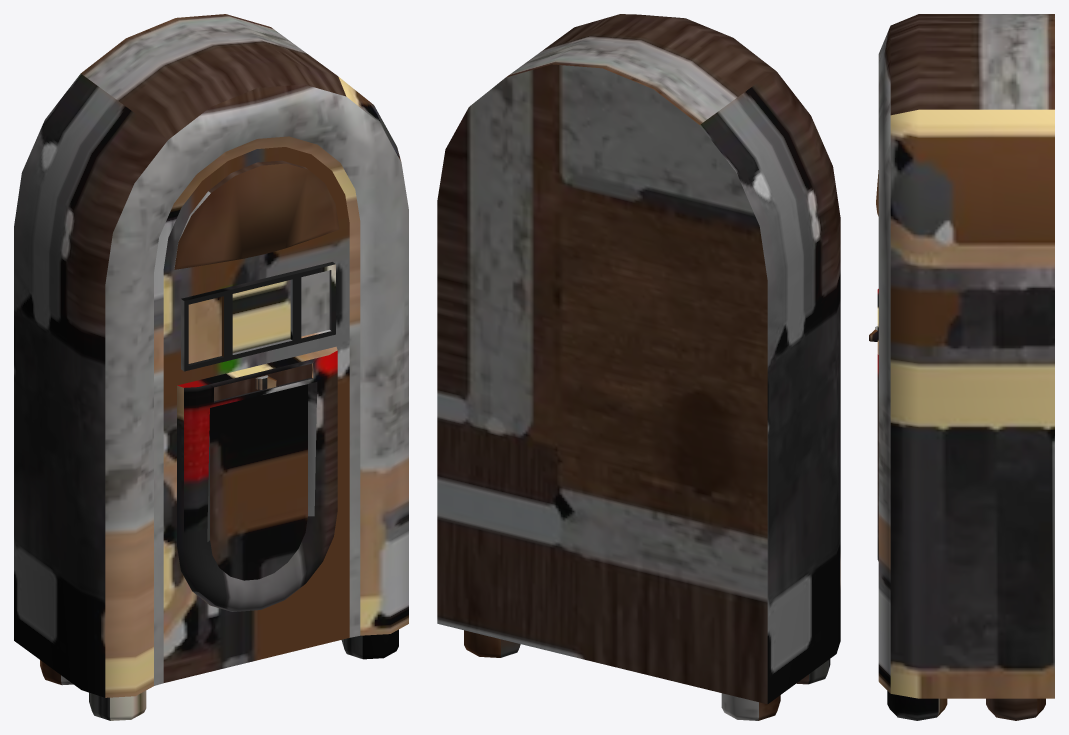
File: jukebox.glb
3 views of the same model, side by side, from view 1: azimuth 30°, elevation 25°; view 2: azimuth 150°, elevation 25°; view 3: azimuth 270°, elevation 25° (orthographic). The views are drawn at different scales.
Visible parts, largest first — view 1: SM_Jukebox_Restaurant_0; view 2: SM_Jukebox_Restaurant_0; view 3: SM_Jukebox_Restaurant_0.
Boxes of the visible parts, bbox=[...] form: SM_Jukebox_Restaurant_0: bbox=[14, 14, 408, 720]; SM_Jukebox_Restaurant_0: bbox=[437, 14, 840, 720]; SM_Jukebox_Restaurant_0: bbox=[869, 14, 1054, 720].
Bounding box in the file's own units: 1.01 × 1.83 × 0.4976.
1 material, 1 textured.
